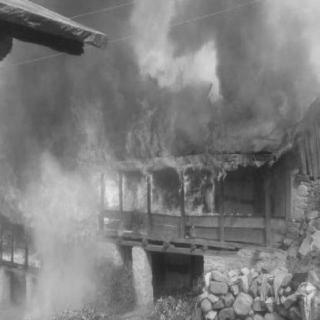Fire: (71, 99, 227, 213)
Smoke: (215, 5, 297, 126), (172, 0, 212, 54)
